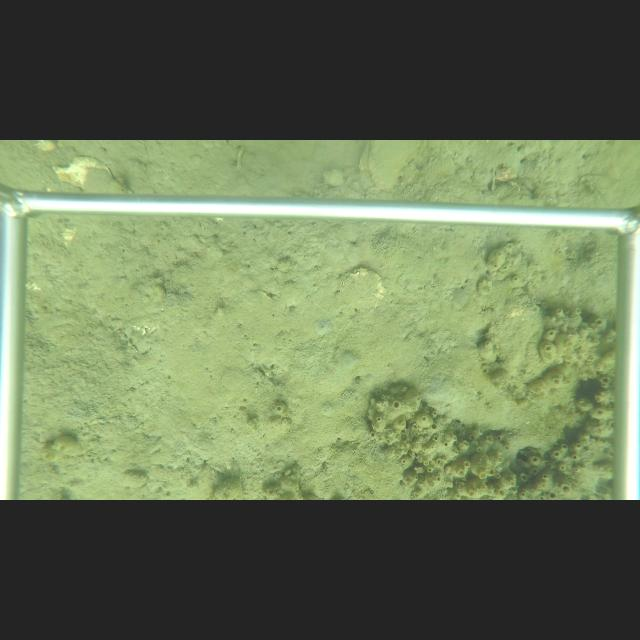Oyster-Closed: (486, 286, 549, 384), (357, 142, 430, 192), (336, 266, 385, 315)
